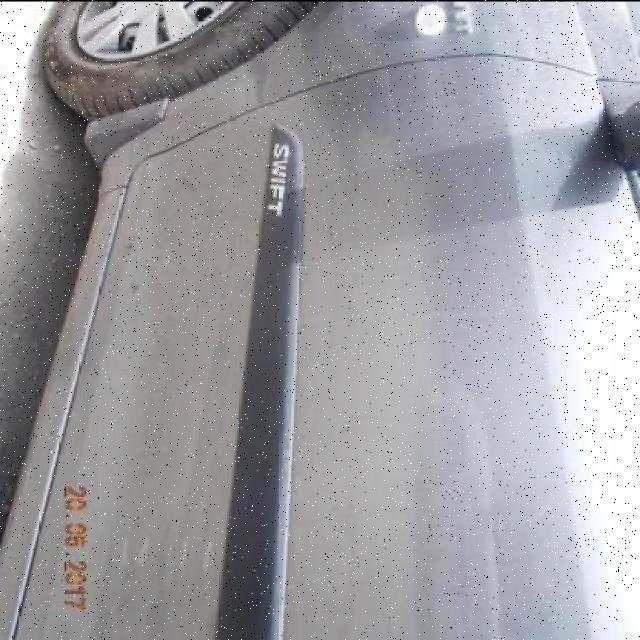damage: (115, 531, 222, 574)
